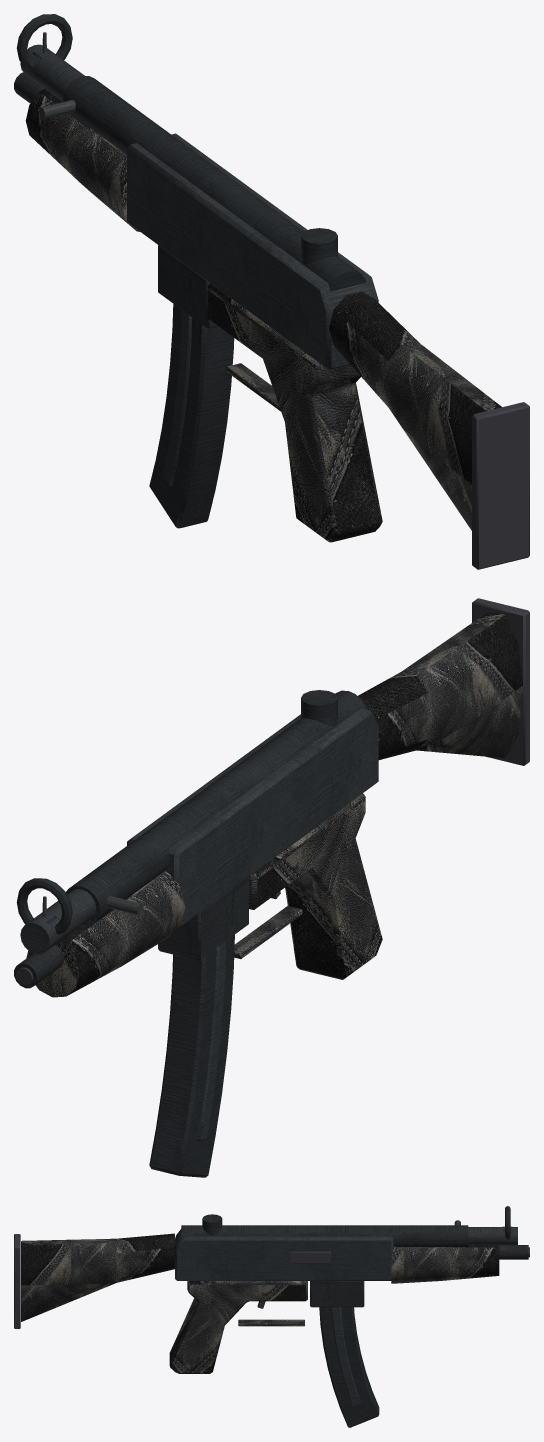
3 views of the same model, one above another, from view 1: azimuth 30°, elevation 25°; view 2: azimuth 150°, elevation 25°; view 3: azimuth 270°, elevation 25° (orthographic). The views are drawn at different scales.
Parts seen in each view (by area): view 1: receiver, lower, stock, magazine_body, upper_tube, buttpad, handguard, magwell, magazine_rib, cock_tube, sight_hood, diopter (+1 smaller); view 2: receiver, stock, lower, magazine_body, upper_tube, handguard, magwell, buttpad, cock_tube, magazine_rib, sight_hood, tguard_b (+2 smaller); view 3: receiver, stock, lower, upper_tube, handguard, magazine_body, magwell, magazine_rib, cock_tube, buttpad, port, tguard_b (+2 smaller).
Part boxes in pixels (x1=…): receiver: x1=127, y1=133, x2=378, y2=370; lower: x1=207, y1=283, x2=382, y2=542; stock: x1=329, y1=291, x2=501, y2=530; magazine_body: x1=149, y1=304, x2=234, y2=528; upper_tube: x1=62, y1=76, x2=366, y2=291; buttpad: x1=472, y1=402, x2=529, y2=569; handguard: x1=25, y1=88, x2=139, y2=231; magwell: x1=158, y1=245, x2=218, y2=328; magazine_rib: x1=163, y1=310, x2=192, y2=485; cock_tube: x1=20, y1=44, x2=84, y2=101; sight_hood: x1=16, y1=14, x2=72, y2=70; diopter: x1=301, y1=228, x2=337, y2=264; receiver: x1=127, y1=708, x2=378, y2=926; stock: x1=358, y1=611, x2=523, y2=759; lower: x1=249, y1=793, x2=382, y2=979; magazine_body: x1=149, y1=934, x2=234, y2=1177; upper_tube: x1=66, y1=690, x2=365, y2=922; handguard: x1=26, y1=870, x2=185, y2=997; magwell: x1=158, y1=877, x2=248, y2=960; buttpad: x1=472, y1=598, x2=529, y2=765; cock_tube: x1=20, y1=889, x2=96, y2=954; magazine_rib: x1=197, y1=941, x2=226, y2=1140; sight_hood: x1=16, y1=878, x2=72, y2=934; tguard_b: x1=234, y1=906, x2=302, y2=958; receiver: x1=175, y1=1229, x2=393, y2=1280; stock: x1=21, y1=1233, x2=174, y2=1321; lower: x1=169, y1=1281, x2=307, y2=1373; upper_tube: x1=181, y1=1225, x2=468, y2=1247; handguard: x1=391, y1=1245, x2=499, y2=1283; magazine_body: x1=319, y1=1307, x2=379, y2=1427; magwell: x1=310, y1=1281, x2=364, y2=1307; magazine_rib: x1=331, y1=1307, x2=361, y2=1406; cock_tube: x1=468, y1=1227, x2=517, y2=1245; buttpad: x1=14, y1=1234, x2=20, y2=1328; port: x1=289, y1=1251, x2=330, y2=1263; tguard_b: x1=238, y1=1319, x2=304, y2=1326.
Size of the model in its own units: 2.42 by 11.5 by 24.81.
Materials: 5 (4 with a texture image).
